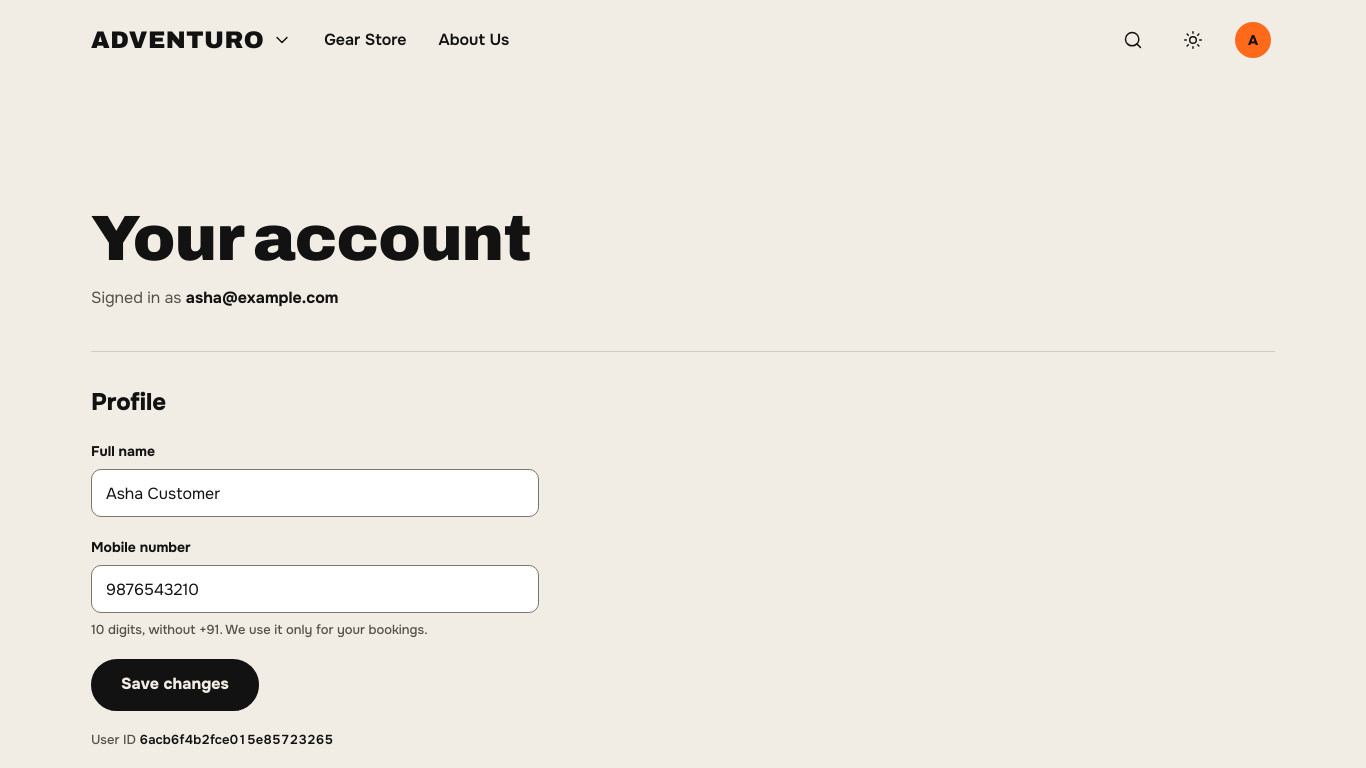
Test: AccountMenu › shows who is signed in and the account links
Click the button named "Account".
click(1253, 40)  # box x1=1231 y1=18 x2=1275 y2=62
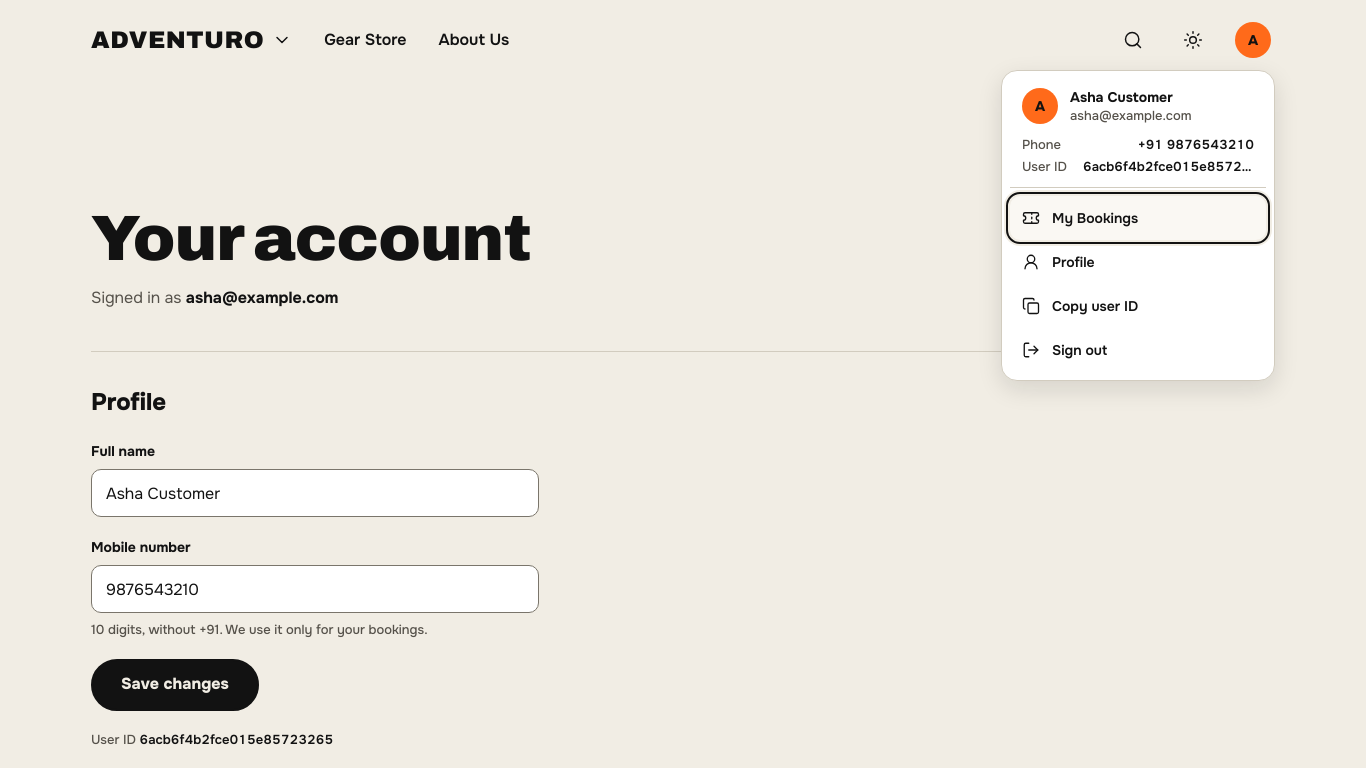
Now the text "Asha Customer" is shown, box x1=1070 y1=88 x2=1173 y2=106
Now the text "asha@example.com" below "Asha Customer" is shown, box x1=1070 y1=107 x2=1192 y2=124
Now the text "+91 9876543210" is shown, box x1=1138 y1=136 x2=1254 y2=154
